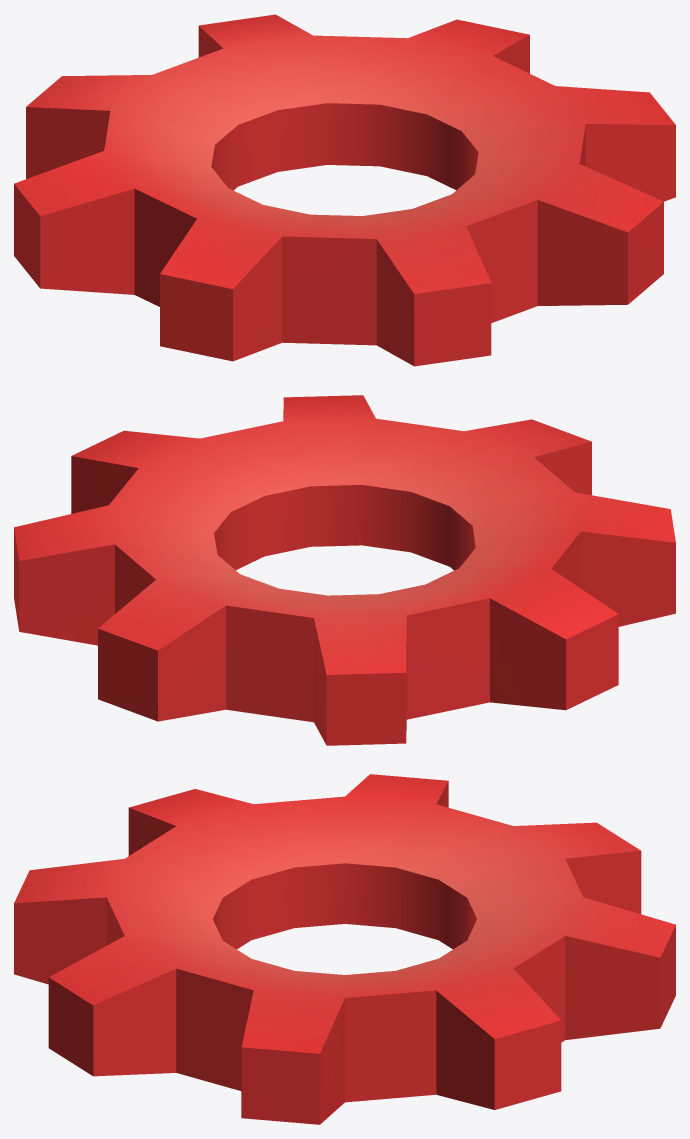
The model's file is M_Prop_Cog_002.fbx.
3 views of the same model, one above another, from view 1: azimuth 30°, elevation 25°; view 2: azimuth 150°, elevation 25°; view 3: azimuth 270°, elevation 25° (orthographic). The views are drawn at different scales.
Parts seen in each view (by area): view 1: Cog2; view 2: Cog2; view 3: Cog2.
Part boxes in pixels (x1,y1,x2,y2): Cog2: [14, 14, 675, 366]; Cog2: [14, 395, 675, 745]; Cog2: [14, 774, 675, 1124].
Size of the model in its own units: 24.05 by 4.18 by 24.05.
